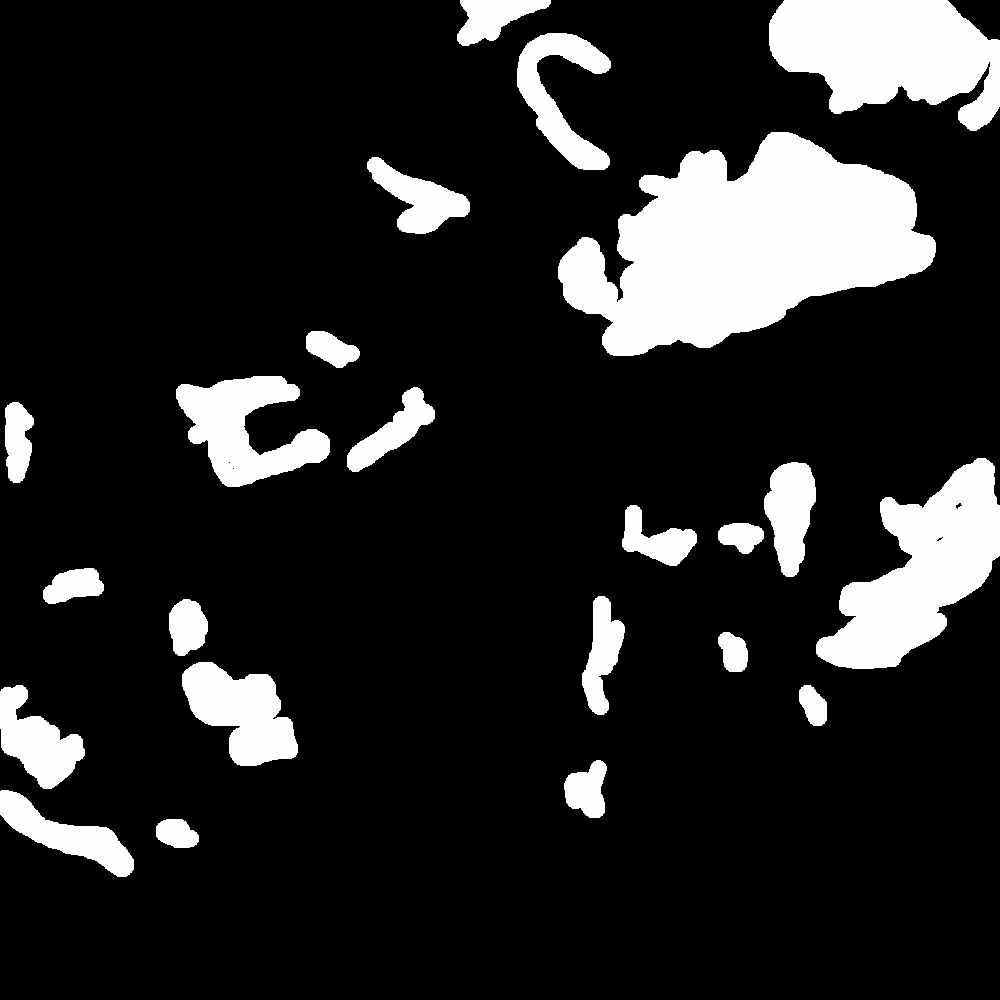illegal: (559, 120, 928, 361), (812, 456, 1000, 673), (180, 333, 437, 488), (729, 1, 1000, 130), (165, 599, 292, 762), (759, 396, 859, 579), (1, 791, 185, 877), (513, 34, 613, 174), (361, 154, 470, 244), (506, 382, 595, 471), (1, 695, 81, 791), (630, 505, 690, 633), (579, 589, 623, 723), (462, 1, 548, 42), (1, 402, 29, 485), (566, 761, 605, 819), (45, 565, 100, 605), (798, 680, 826, 726), (721, 636, 748, 668), (719, 525, 753, 550)
